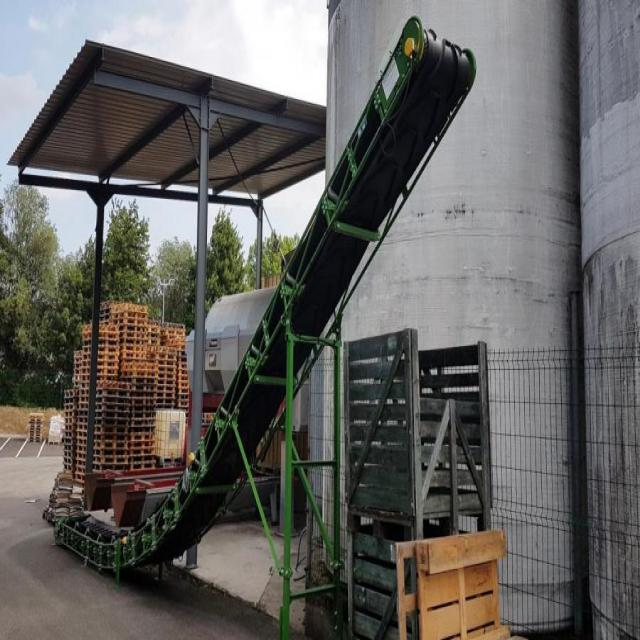Convoyeur: (52, 15, 481, 579)
Palette: (78, 307, 118, 486), (343, 502, 496, 544), (89, 366, 132, 476), (130, 355, 158, 474), (107, 298, 147, 355), (60, 388, 77, 478), (160, 341, 177, 410), (27, 404, 43, 448), (183, 346, 192, 419)
